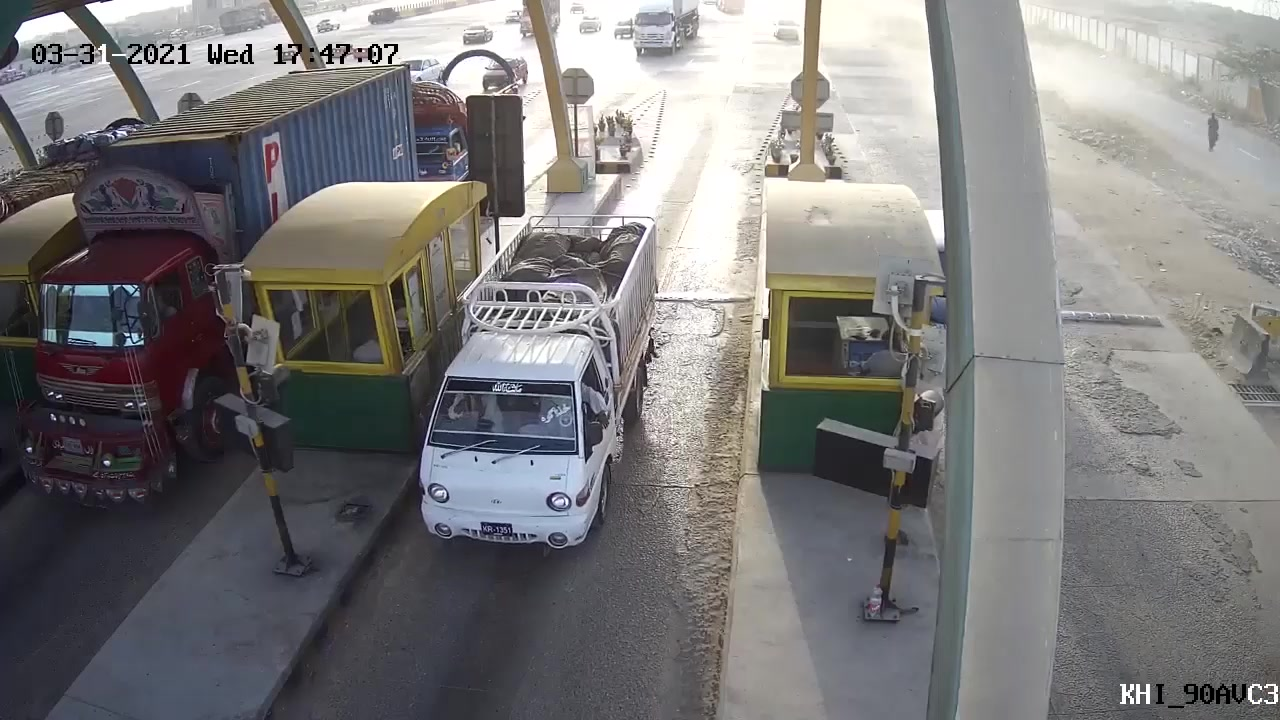F2: (413, 214, 669, 582)
